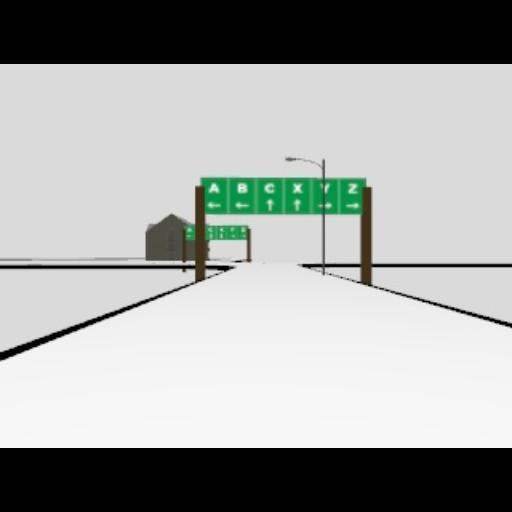A: (208, 182, 220, 194)
B: (236, 182, 248, 194)
C: (263, 182, 275, 194)
Left: (234, 201, 250, 211), (207, 200, 221, 210)
Right: (317, 200, 333, 210), (346, 202, 360, 210)
Straight: (266, 198, 274, 212), (293, 198, 301, 212)
X: (291, 182, 303, 194)
Y: (319, 182, 331, 196)
Z: (346, 182, 360, 194)
